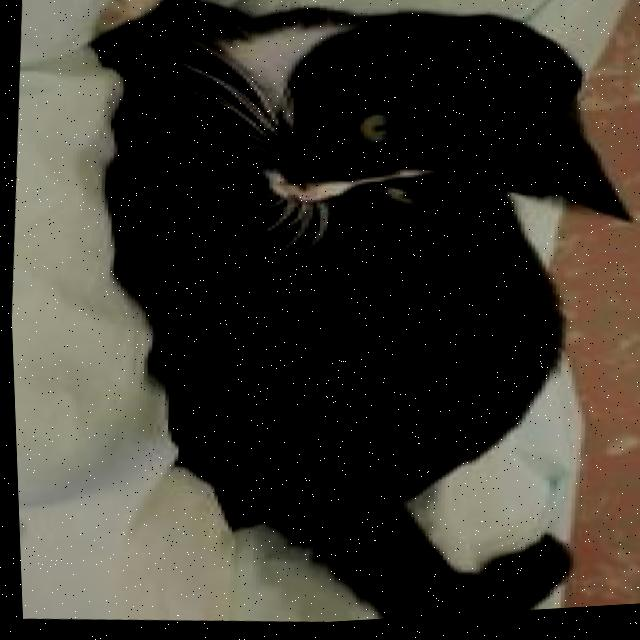Tuxedo: (45, 0, 640, 638)
